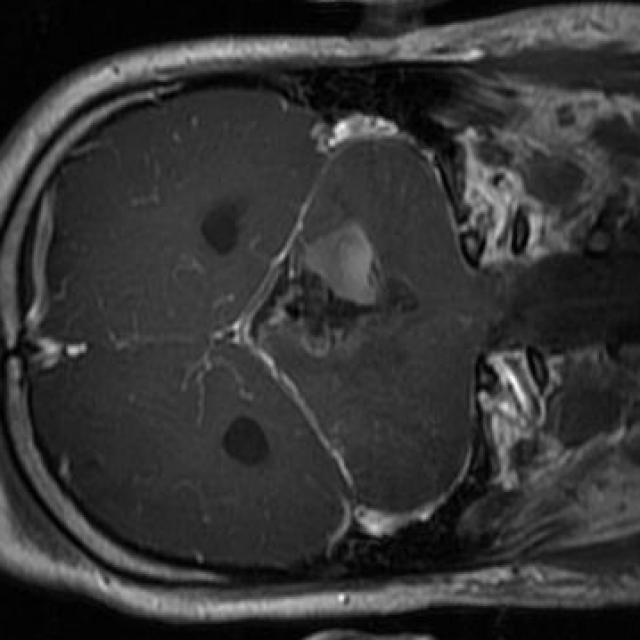glioma: (251, 225, 419, 360)
